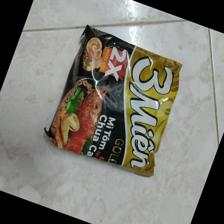3mien: (44, 23, 183, 179)
